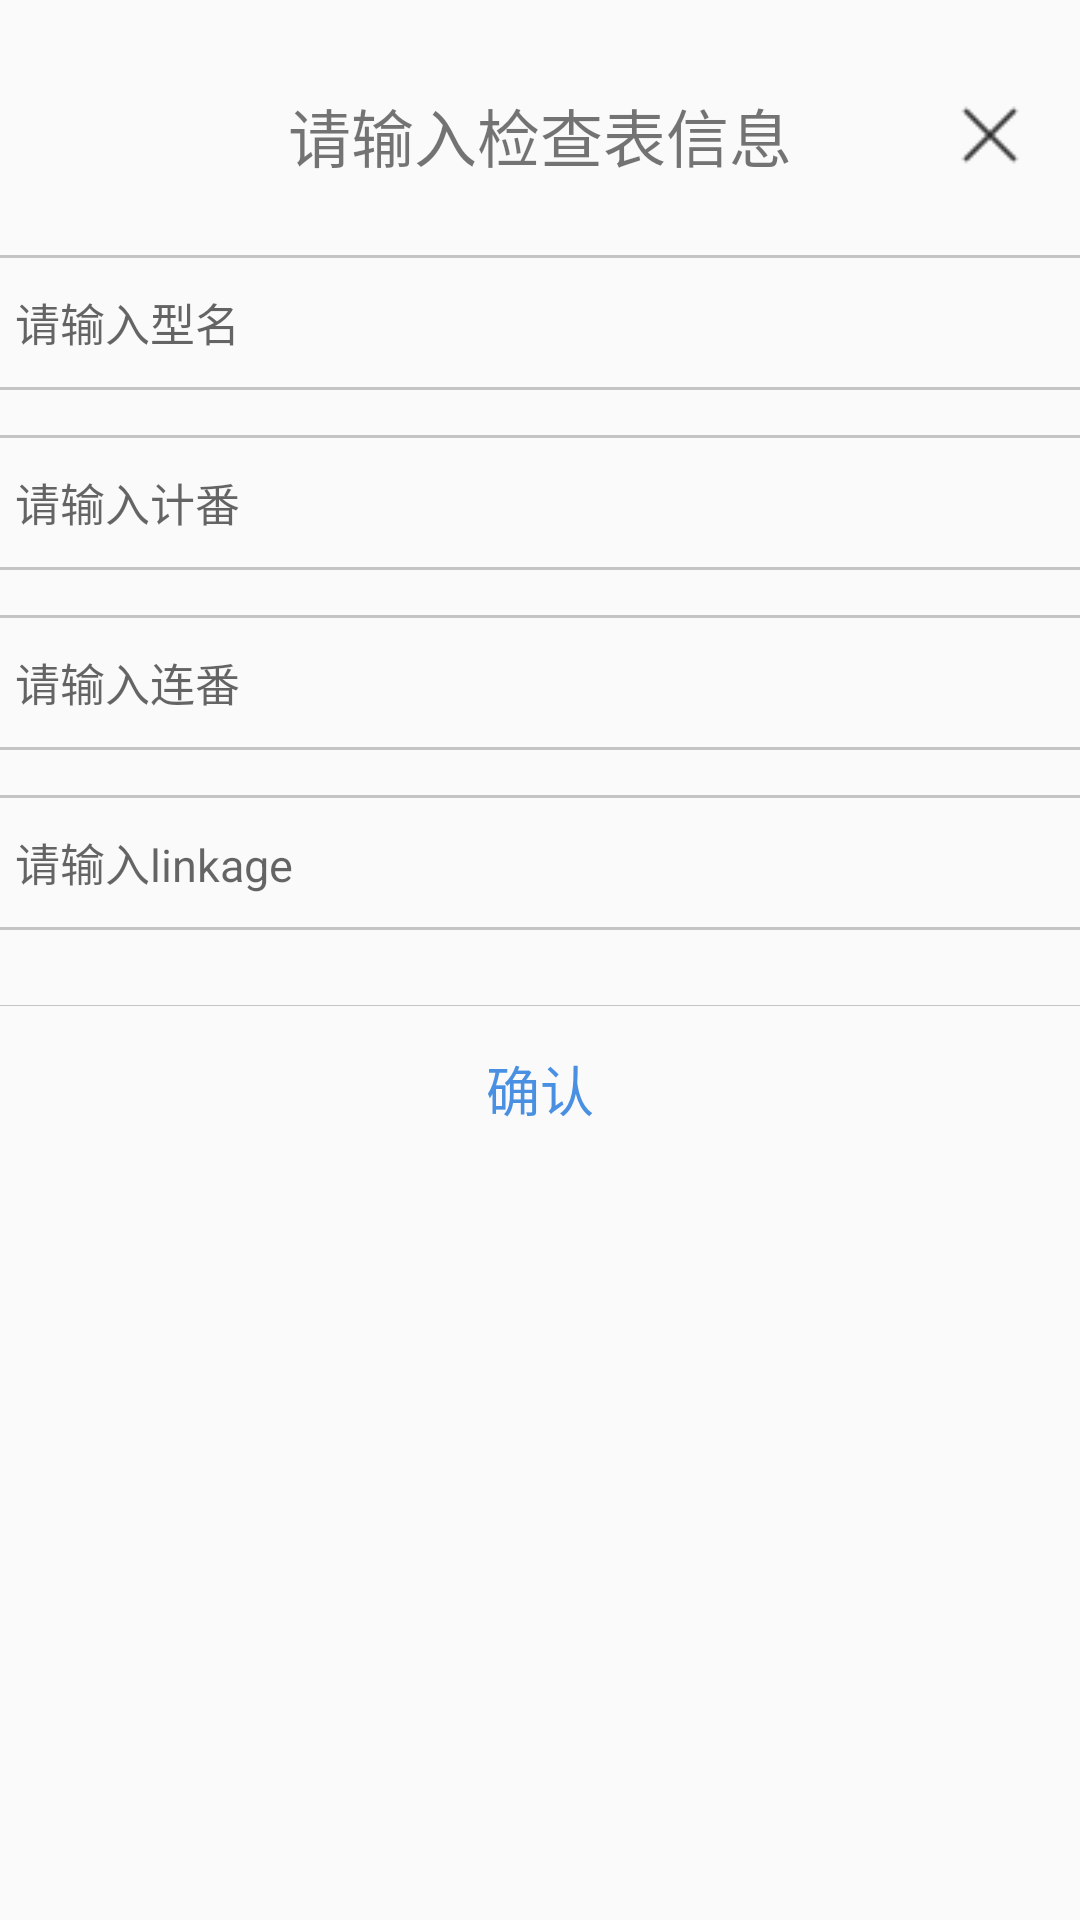

Named icons in this screenshot (1080 × 1920) and their centers, [x,y]:
close change: [990,135]
